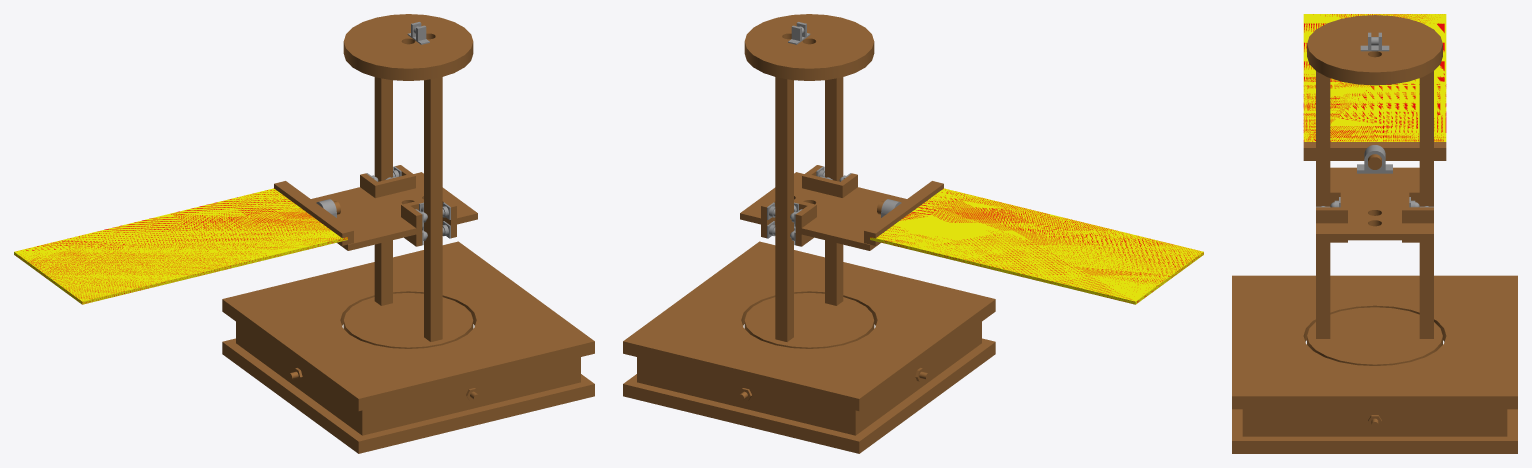
Rendered from Stacker.dae.
3 renders of one model, left to right at view 1: azimuth 30°, elevation 25°; view 2: azimuth 150°, elevation 25°; view 3: azimuth 270°, elevation 25°, orthographic. The views are drawn at different scales.
Visible parts, largest first — view 1: Base_Top, Spatula, Difference, Rotating_Support_Large (×2), Base, Small_Rotating_Top, Small_Rotating_Base, Spatula_Base, Linear_Bearing_Part_1 (×2), Gripper; view 2: Base_Top, Spatula, Difference, Rotating_Support_Large (×2), Base, Small_Rotating_Top, Small_Rotating_Base, Spatula_Base, Linear_Bearing_Part_1 (×2), Gripper; view 3: Base_Top (×2), Spatula, Small_Rotating_Top, Difference, Rotating_Support_Large (×2), Small_Rotating_Base, Base, Spatula_Base, Gripper, Linear_Bearing_Part_1 (×2), Upright_Bearing, Pulley.
Boxes of the visible parts, box(x1,y1,x2,y2) form: Base_Top: box(222, 241, 594, 411); Spatula: box(14, 188, 347, 304); Difference: box(236, 322, 580, 435); Rotating_Support_Large (×2): box(374, 77, 442, 341); Base: box(222, 338, 594, 453); Small_Rotating_Top: box(343, 14, 473, 80); Small_Rotating_Base: box(343, 293, 473, 348); Spatula_Base: box(311, 172, 477, 250); Linear_Bearing_Part_1 (×2): box(360, 165, 456, 246); Gripper: box(274, 181, 353, 245); Base_Top: box(623, 241, 995, 411); Spatula: box(870, 188, 1203, 304); Difference: box(637, 322, 981, 435); Rotating_Support_Large (×2): box(775, 77, 843, 341); Base: box(623, 338, 995, 453); Small_Rotating_Top: box(744, 14, 874, 80); Small_Rotating_Base: box(744, 293, 874, 348); Spatula_Base: box(740, 172, 906, 250); Linear_Bearing_Part_1 (×2): box(761, 165, 857, 246); Gripper: box(864, 181, 943, 245); Base_Top (×2): box(1232, 275, 1517, 409); Spatula: box(1303, 14, 1446, 141); Small_Rotating_Top: box(1307, 15, 1442, 85); Difference: box(1242, 409, 1507, 436); Rotating_Support_Large (×2): box(1316, 71, 1433, 338); Small_Rotating_Base: box(1307, 307, 1442, 365); Base: box(1232, 409, 1517, 453); Spatula_Base: box(1316, 167, 1433, 240); Gripper: box(1303, 142, 1446, 160); Linear_Bearing_Part_1 (×2): box(1316, 189, 1433, 242); Upright_Bearing: box(1357, 145, 1392, 173); Pulley: box(1360, 32, 1389, 51).
Bounding box in the file's own units: 31.89 × 15.75 × 22.13.
